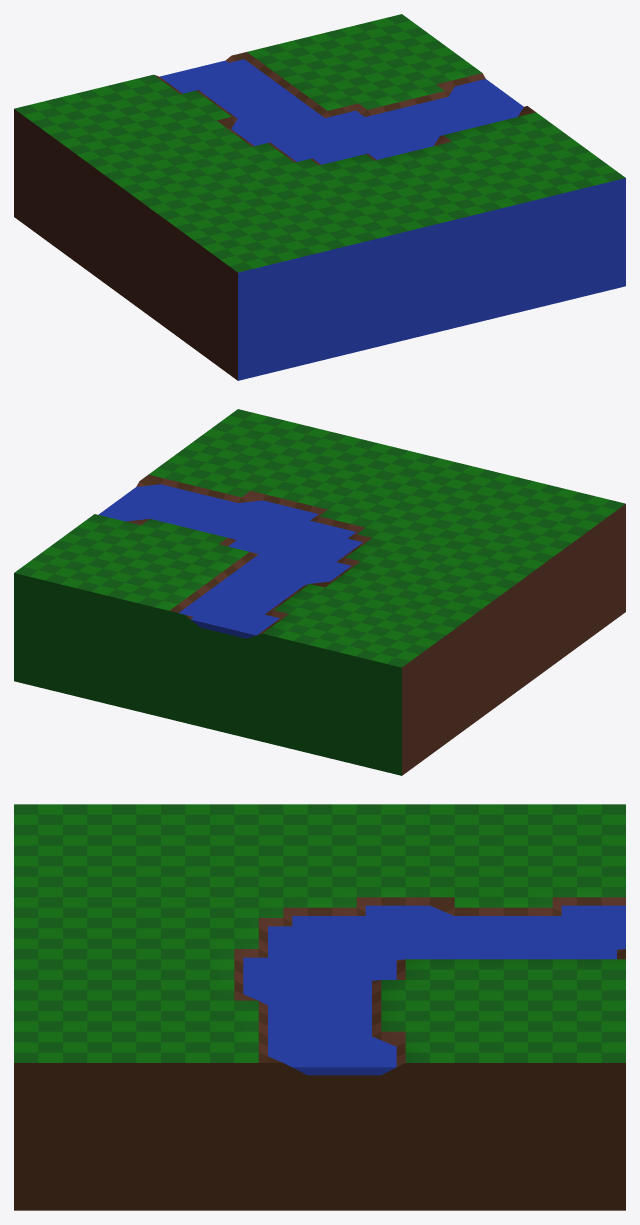
Rendered from Gazebo Land Chunk v002.FBX.
3 views of the same model, one above another, from view 1: azimuth 30°, elevation 25°; view 2: azimuth 150°, elevation 25°; view 3: azimuth 270°, elevation 25° (orthographic). The views are drawn at different scales.
Parts seen in each view (by area): view 1: Gazebo Land Chunk, Gazebo Water Chunk001; view 2: Gazebo Land Chunk, Gazebo Water Chunk001; view 3: Gazebo Land Chunk, Gazebo Water Chunk001.
Boxes of the visible parts, box(x1,y1,x2,y2) form: Gazebo Land Chunk: box(14, 14, 625, 380); Gazebo Water Chunk001: box(160, 59, 523, 164); Gazebo Land Chunk: box(14, 409, 625, 775); Gazebo Water Chunk001: box(98, 484, 362, 638); Gazebo Land Chunk: box(14, 804, 625, 1210); Gazebo Water Chunk001: box(243, 905, 625, 1075).
Size of the model in its own units: 30 by 8 by 30.
